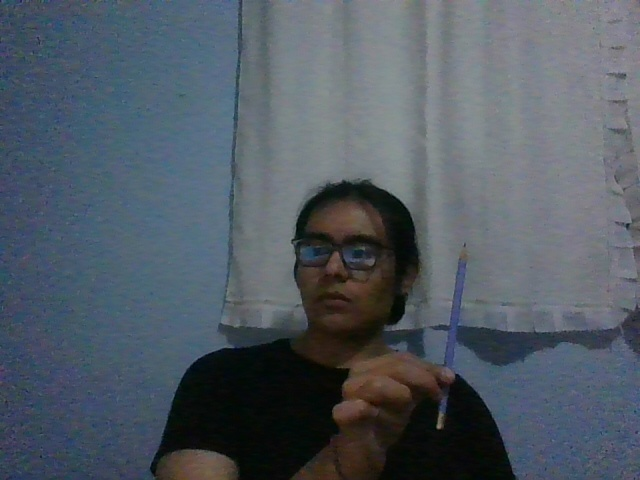lapiz: (435, 241, 467, 431)
